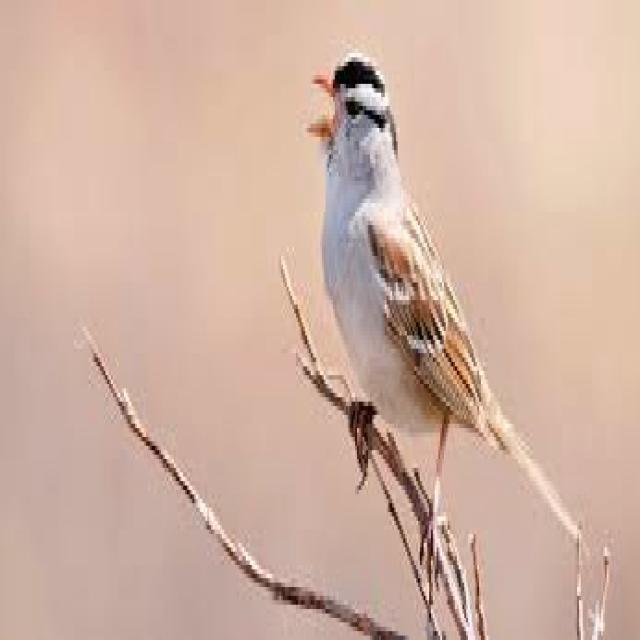sparrow: (307, 53, 572, 600)
